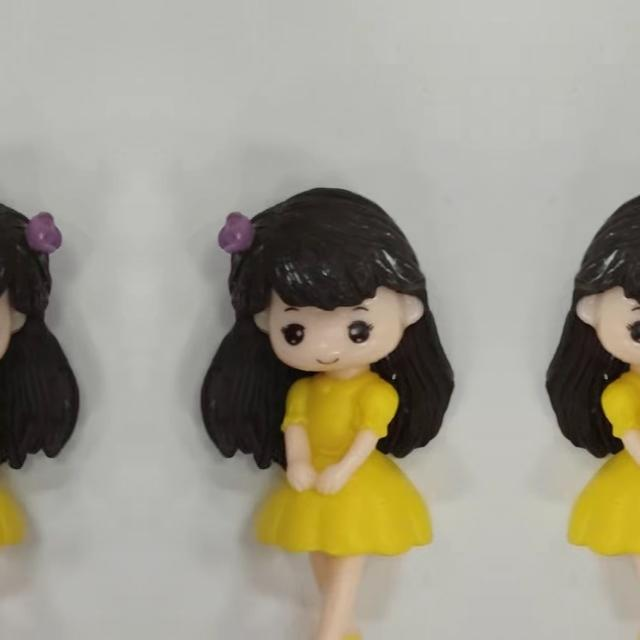woman dress: (247, 367, 421, 629), (579, 367, 640, 629), (0, 367, 33, 629)
woman head: (202, 191, 436, 379), (0, 191, 77, 379), (564, 191, 640, 379)
